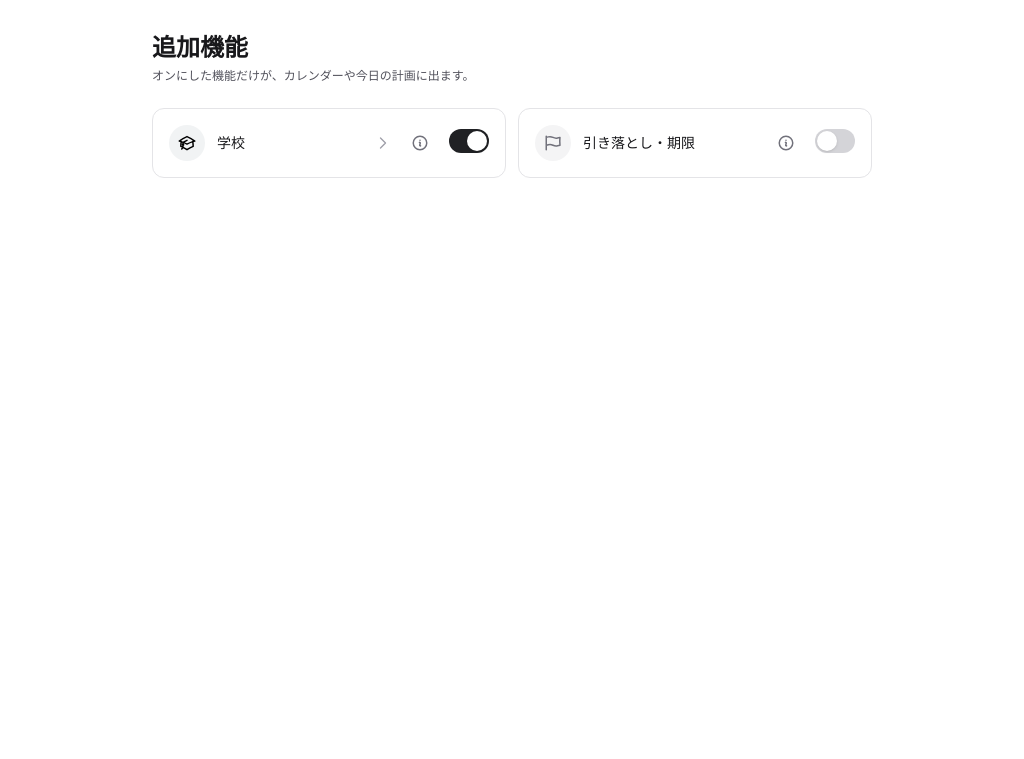
Test: 追加機能「学校」の学期と授業（#503・#622） › 学期の間に課題のある Canvas・Moodle の科目は授業として並び、授業のページに未完了の課題が出る
Step 1. Click the button "学校" → (280,143), box [161,117,399,169]
(page scrolled)
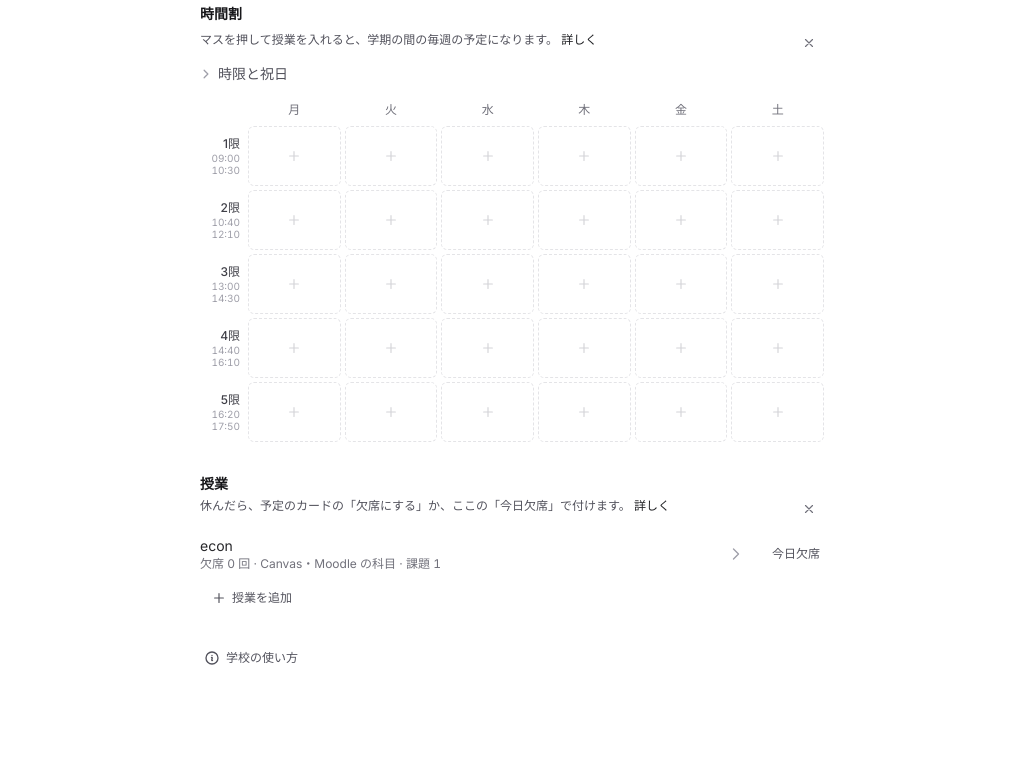
Check: the list named "授業" shows "econ"
Check: the list named "授業" shows "課題 1"
Step 2. Click the button named "econ欠席" → (216,546), box [192,528,752,580]
(page scrolled)
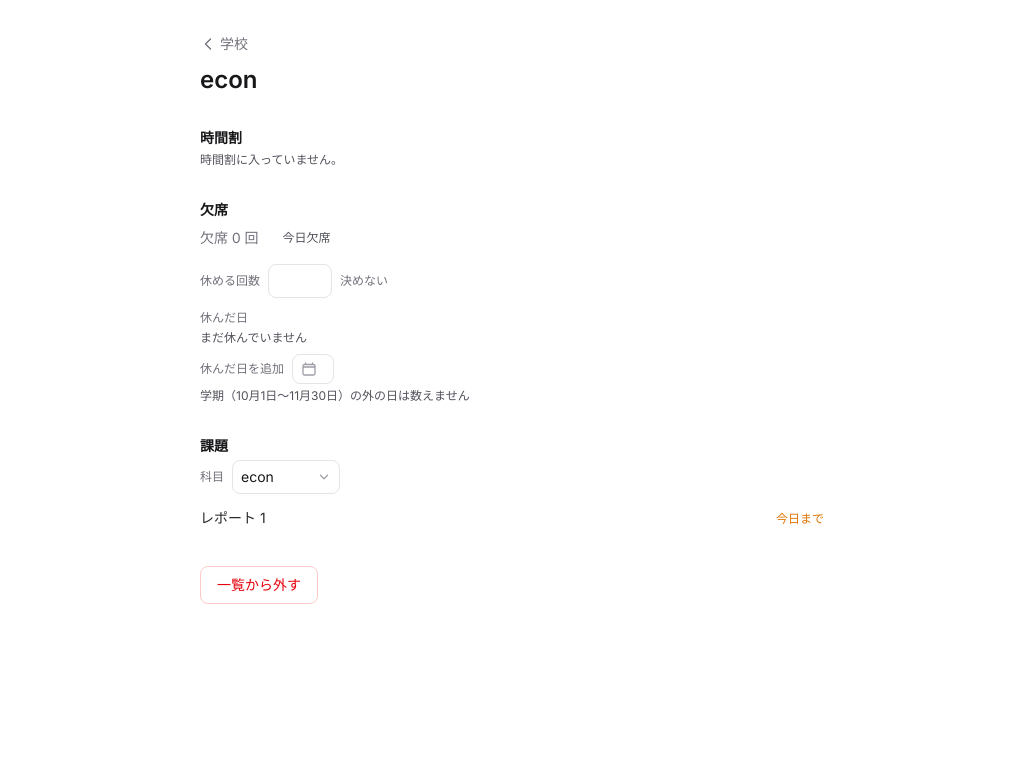
Check: the element "課題" shows "レポート 1", box [192,502,832,534]
// 要らない科目は外せる（外した印が残り、並ばない）
Step 3. Click the button "一覧から外す" → (259,585), box [200,566,318,604]
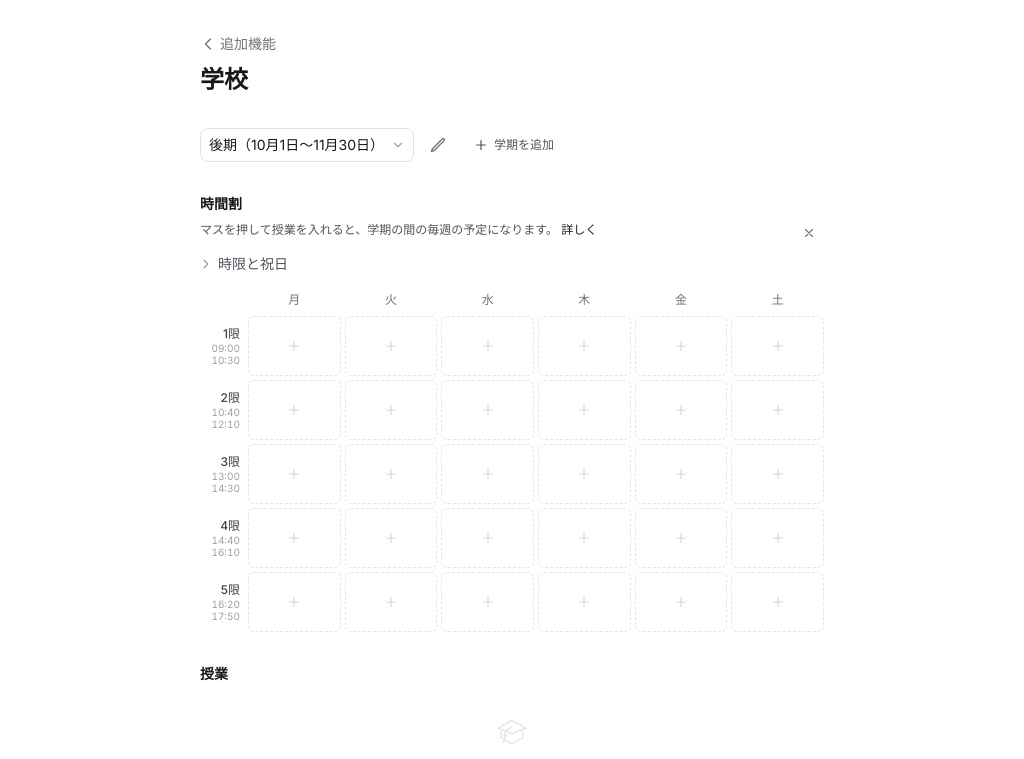
Check: the heading "授業" no longer shows "econ"
